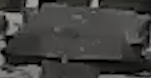bag: (4, 3, 149, 70)
